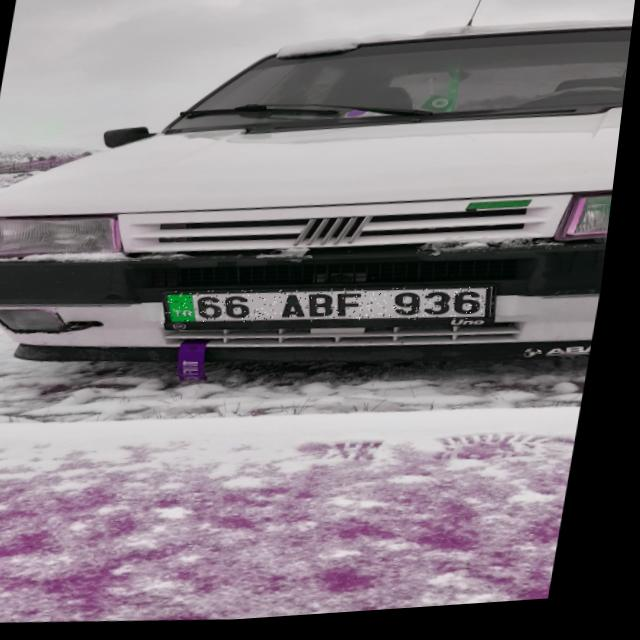license_plate: (166, 277, 503, 344)
